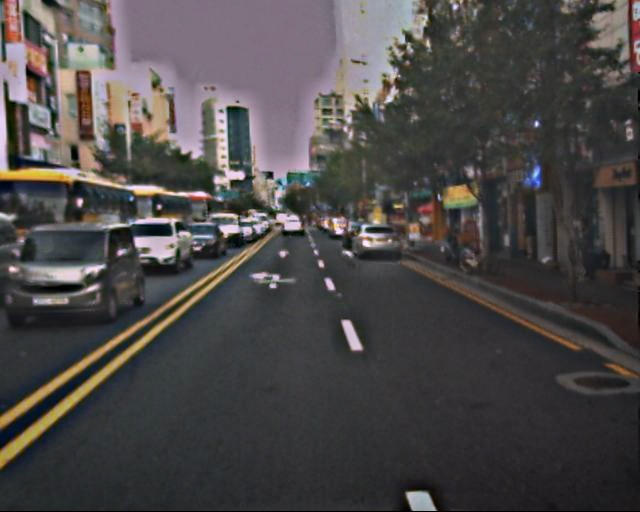person: (569, 216, 600, 285), (514, 209, 539, 266)
